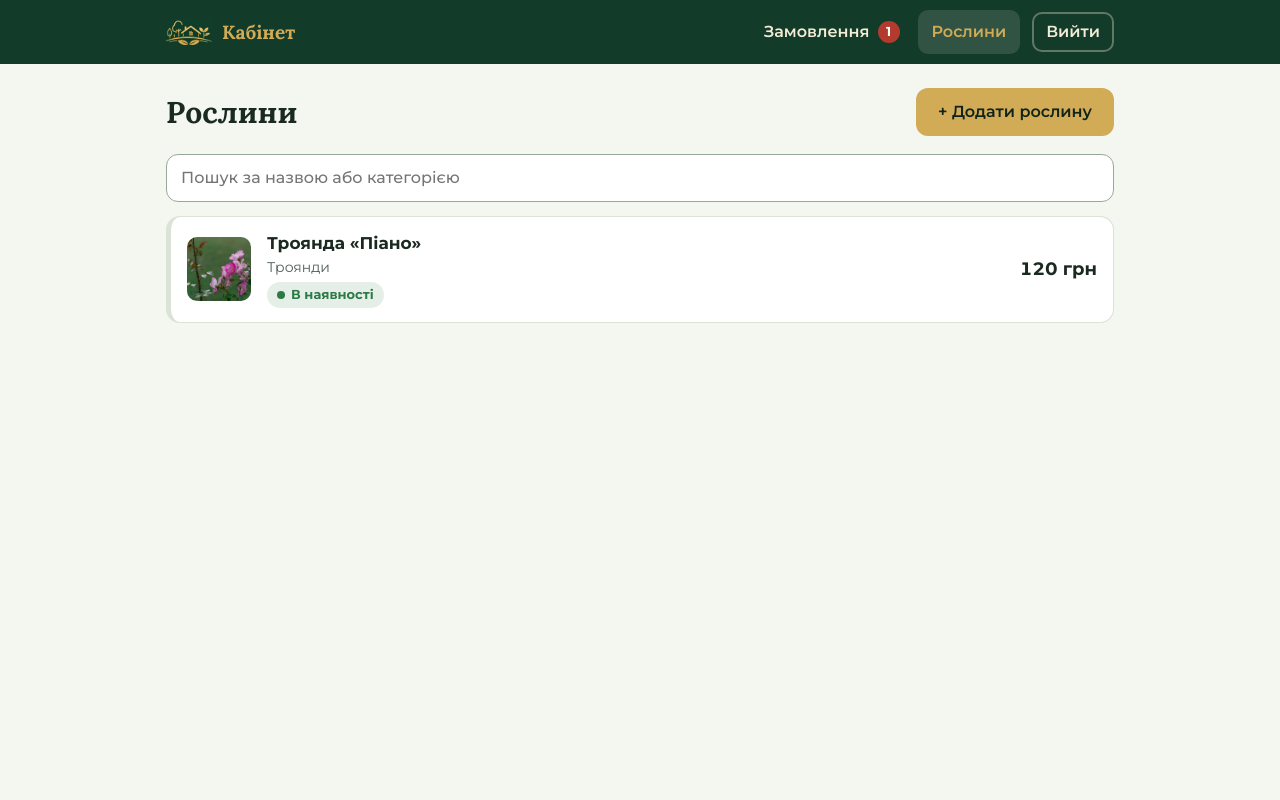
Test: рослини › редагування: нова ціна зберігається через API
Click the link "Троянда «Піано» Троянди В наявності 120 грн".
click(219, 269)  # box [166, 216, 1114, 322]
(page scrolled)
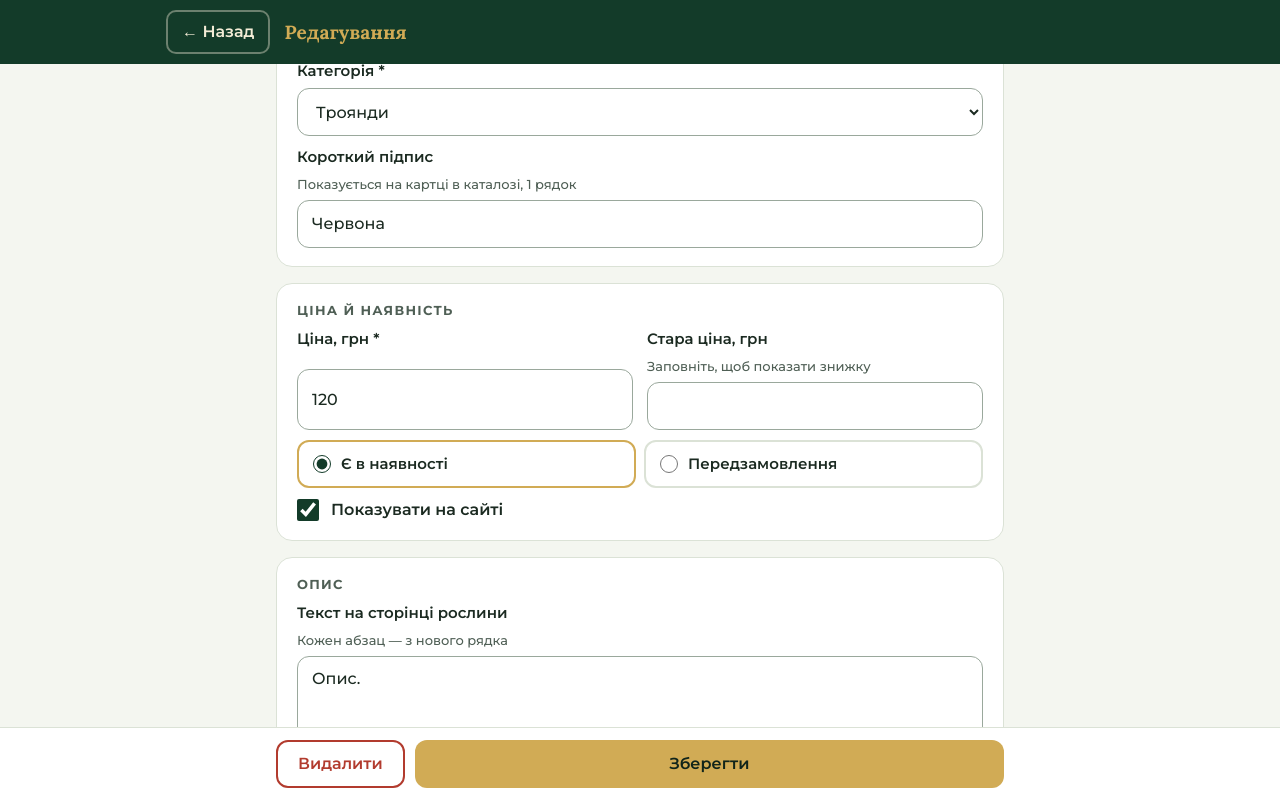
Now the number field labelled "Ціна, грн *" holds "120"
Replace the text in the number field labelled "Ціна, грн *" with "135" at (465, 400), box [297, 370, 633, 430]
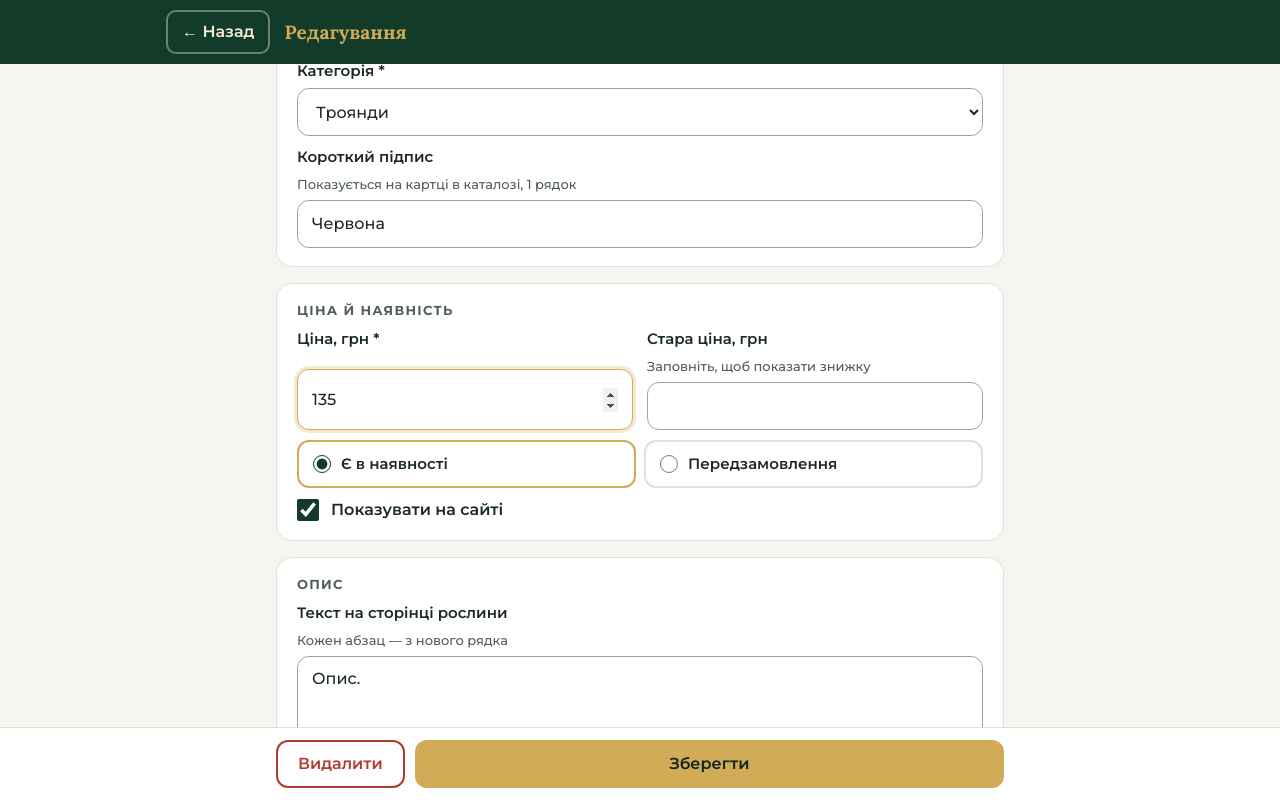
Click the button "Зберегти".
click(709, 764)  # box [415, 740, 1004, 788]
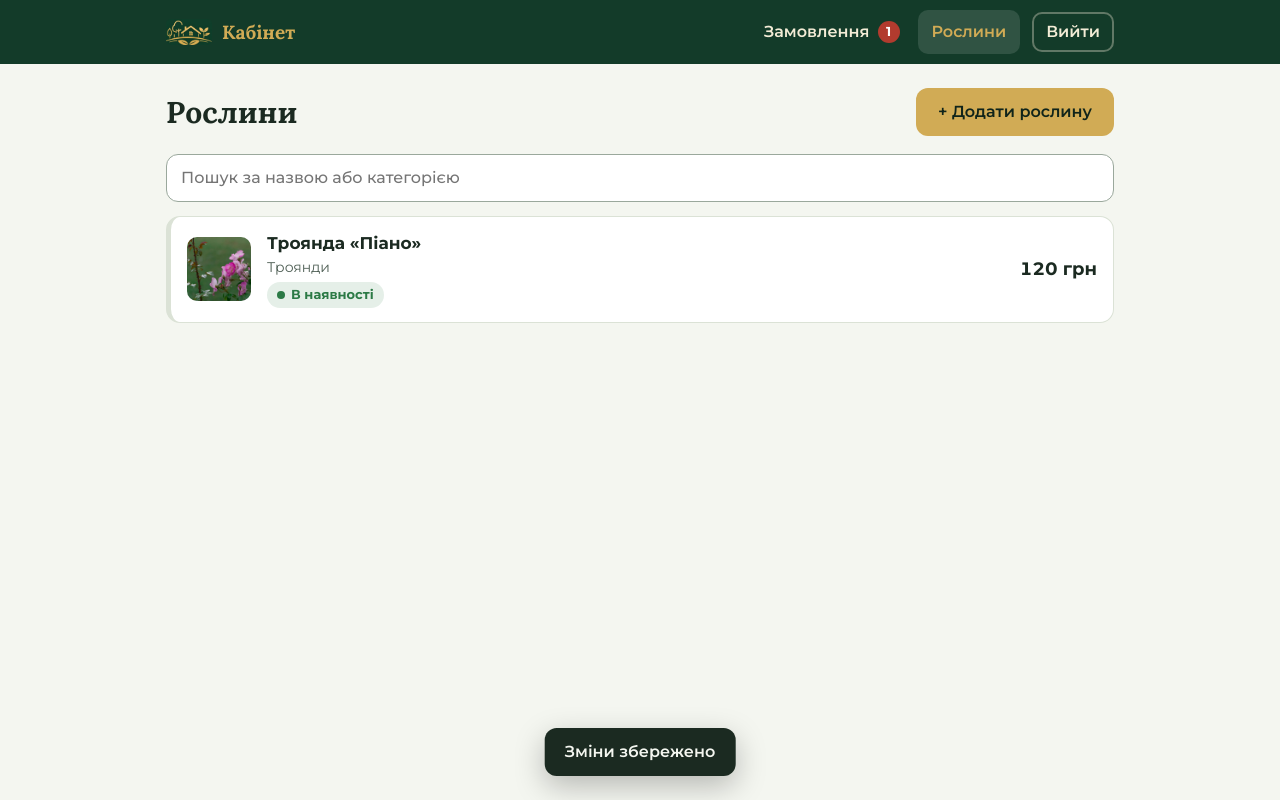
Now the text "Зміни збережено" is shown, box [545, 728, 735, 776]
